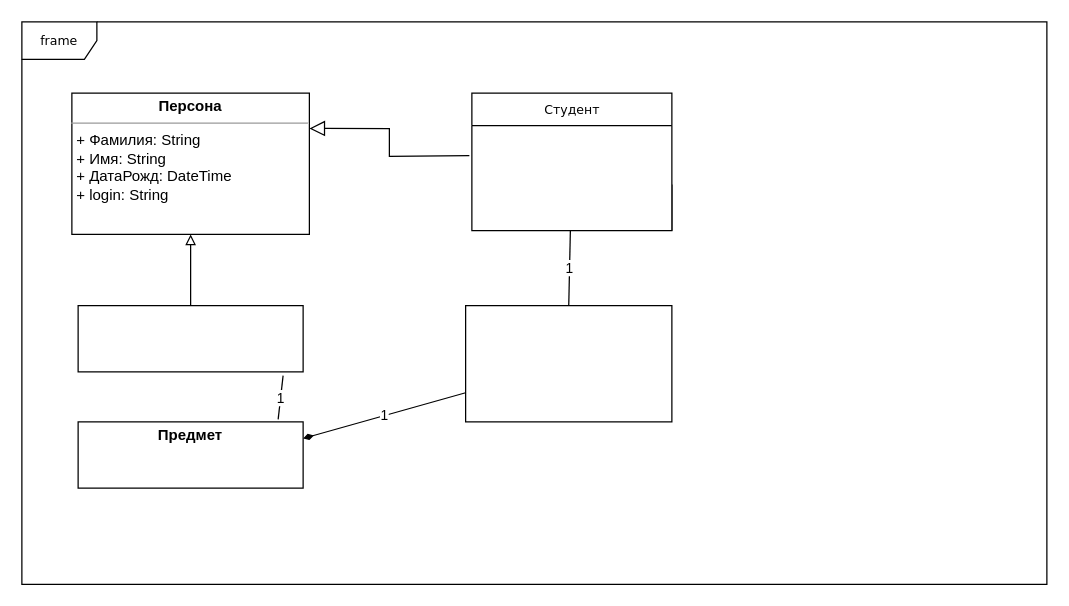
Image size: 1069x606. Some labels were removed from this diagram. The box of each missing label's shape, as (x1, y1, x2, y2) in pixels:
Оценка + значение: enum + датаОценки : DateTime + состояниеОценки: boolean: (464, 304, 672, 422)
Преподаватель: (77, 304, 303, 372)
